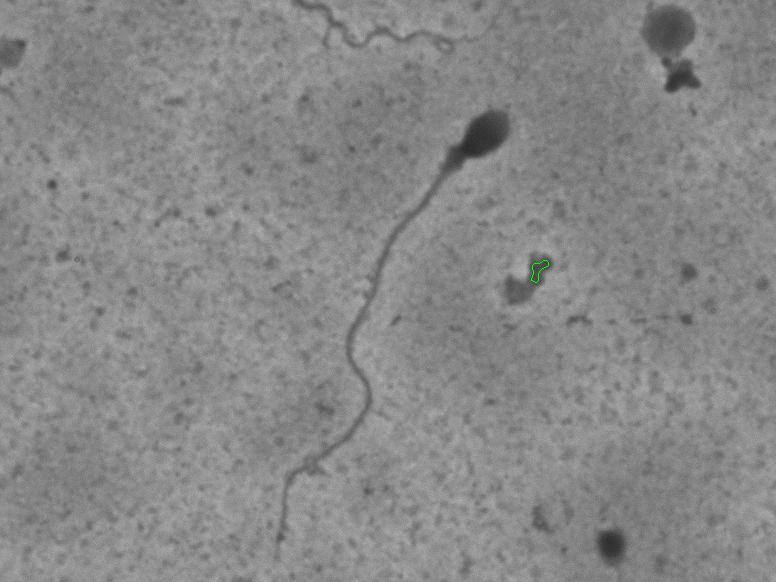Normal: (256, 94, 529, 567)
